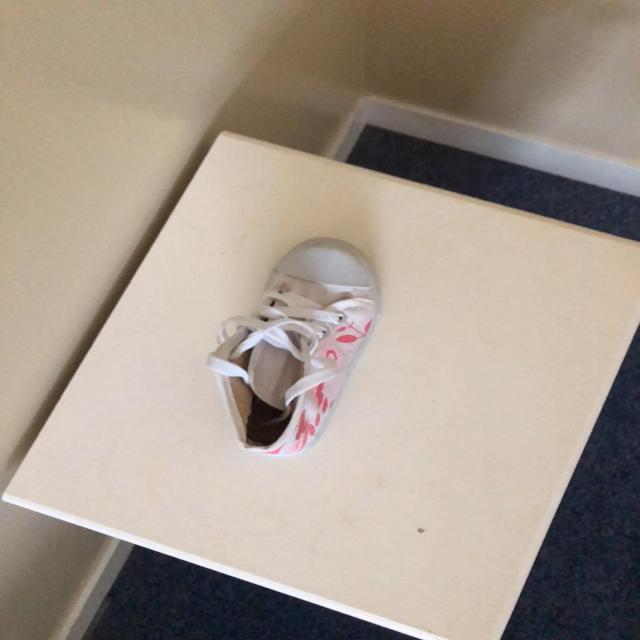shoe: (207, 238, 383, 459)
